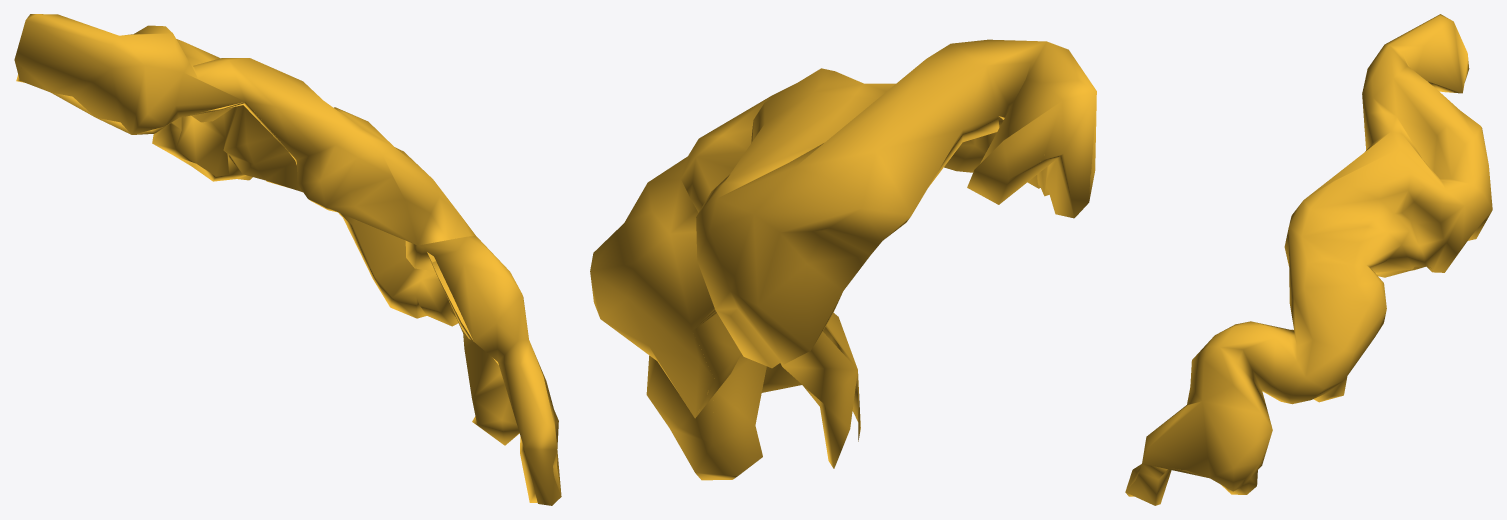
The model's file is nervoso-postcentral-gyrus-l.glb.
The picture shows the model from 3 angles, left to right: view 1: azimuth 30°, elevation 25°; view 2: azimuth 150°, elevation 25°; view 3: azimuth 270°, elevation 25°; orthographic projection. The views are drawn at different scales.
Parts seen in each view (by area): view 1: Postcentral gyrus.l; view 2: Postcentral gyrus.l; view 3: Postcentral gyrus.l.
Boxes of the visible parts, x1=… form: Postcentral gyrus.l: x1=14, y1=14, x2=561, y2=505; Postcentral gyrus.l: x1=590, y1=39, x2=1096, y2=480; Postcentral gyrus.l: x1=1125, y1=14, x2=1492, y2=505.
Size of the model in its own units: 0.0528 by 0.0558 by 0.0515.
